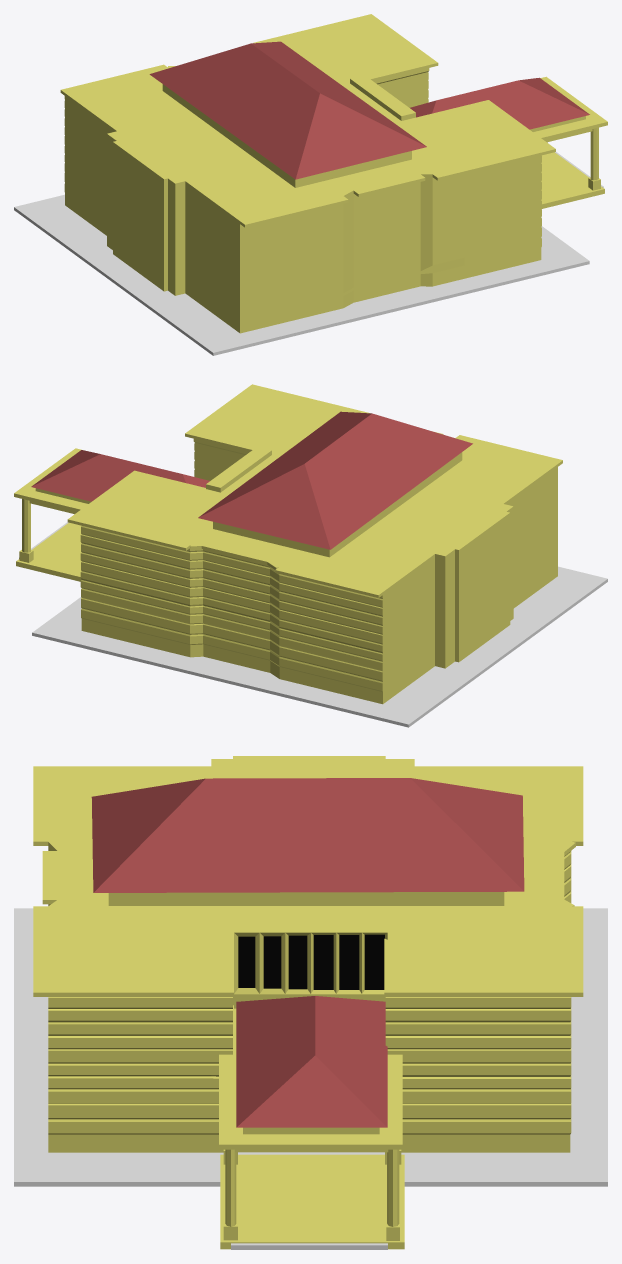
Rendered from MuseumPaseban.fbx.
3 views of the same model, one above another, from view 1: azimuth 30°, elevation 25°; view 2: azimuth 150°, elevation 25°; view 3: azimuth 270°, elevation 25° (orthographic). The views are drawn at different scales.
Visible parts, largest first — view 1: Cube.001, Cube.006, Cube, Cube.005, Cube.002, Cube.003, Cube.004; view 2: Cube.001, Cube.006, Cube, Cube.005, Cube.002, Cube.003, Cube.004; view 3: Cube.001, Cube.006, Cube, Cube.005, Cube.002, Cube.004, Cube.003.
Part boxes in pixels (x1=…): Cube.001: x1=60, y1=14, x2=555, y2=333; Cube.006: x1=149, y1=41, x2=426, y2=179; Cube: x1=14, y1=152, x2=603, y2=355; Cube.005: x1=410, y1=77, x2=589, y2=129; Cube.002: x1=541, y1=127, x2=604, y2=208; Cube.003: x1=530, y1=76, x2=607, y2=142; Cube.004: x1=350, y1=75, x2=415, y2=120; Cube.001: x1=67, y1=384, x2=562, y2=704; Cube.006: x1=198, y1=411, x2=472, y2=549; Cube: x1=19, y1=522, x2=607, y2=727; Cube.005: x1=31, y1=450, x2=209, y2=501; Cube.002: x1=16, y1=499, x2=81, y2=581; Cube.003: x1=14, y1=448, x2=91, y2=514; Cube.004: x1=206, y1=446, x2=271, y2=492; Cube.001: x1=33, y1=756, x2=583, y2=1152; Cube.006: x1=91, y1=778, x2=524, y2=892; Cube: x1=14, y1=908, x2=607, y2=1249; Cube.005: x1=236, y1=996, x2=387, y2=1127; Cube.002: x1=220, y1=1149, x2=404, y2=1249; Cube.004: x1=234, y1=922, x2=387, y2=1008; Cube.003: x1=219, y1=1005, x2=402, y2=1152.
Size of the model in its own units: 4749 by 1728 by 3535.
